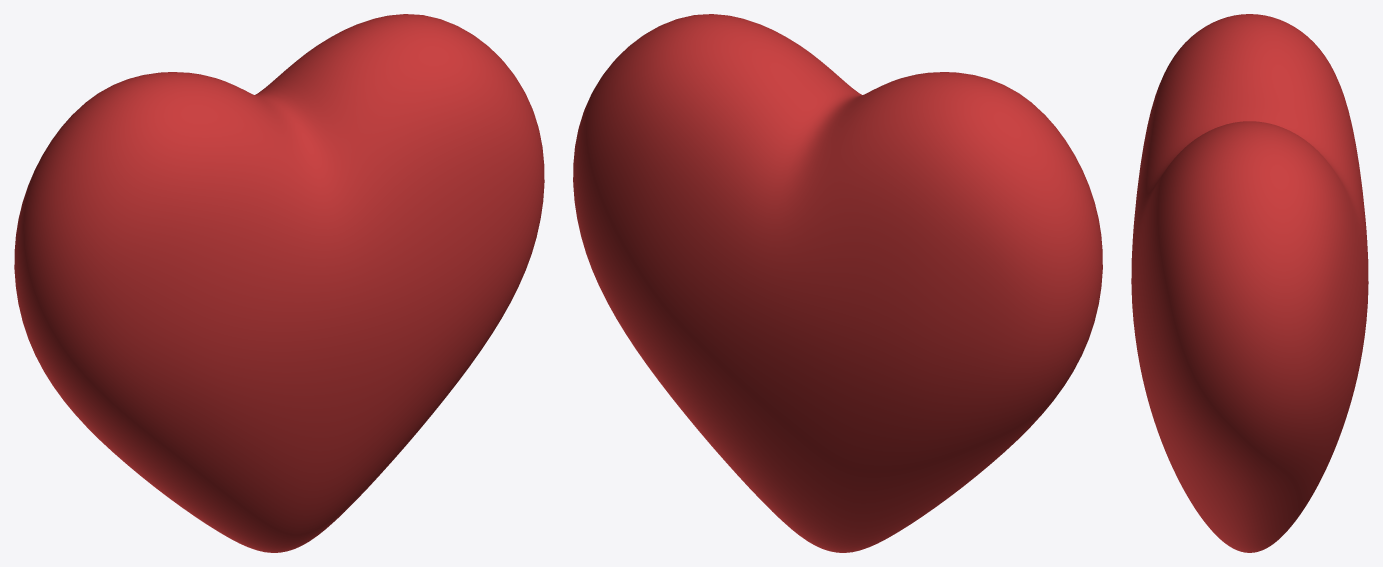
Rendered from Heart3D.fbx.
3 renders of one model, left to right at view 1: azimuth 30°, elevation 25°; view 2: azimuth 150°, elevation 25°; view 3: azimuth 270°, elevation 25°, orthographic. The views are drawn at different scales.
Parts seen in each view (by area): view 1: Heart; view 2: Heart; view 3: Heart.
Boxes of the visible parts, <box> form: Heart: <box>14,14,544,552</box>; Heart: <box>573,14,1102,552</box>; Heart: <box>1131,14,1368,552</box>.
Size of the model in its own units: 21.25 by 9.14 by 19.91.
